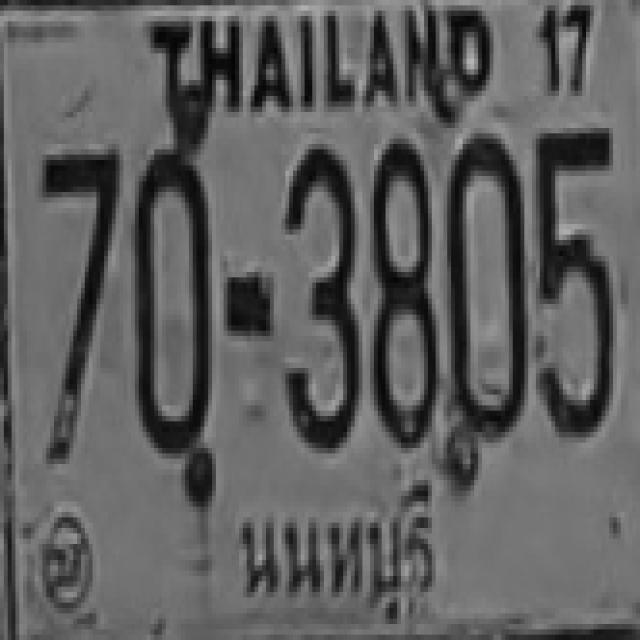0: (444, 128, 524, 437), (131, 147, 208, 450)
3: (282, 142, 358, 446)
5: (535, 124, 618, 438)
7: (38, 147, 116, 429)
8: (368, 133, 438, 443)
Nonthaburi: (232, 470, 449, 626)
